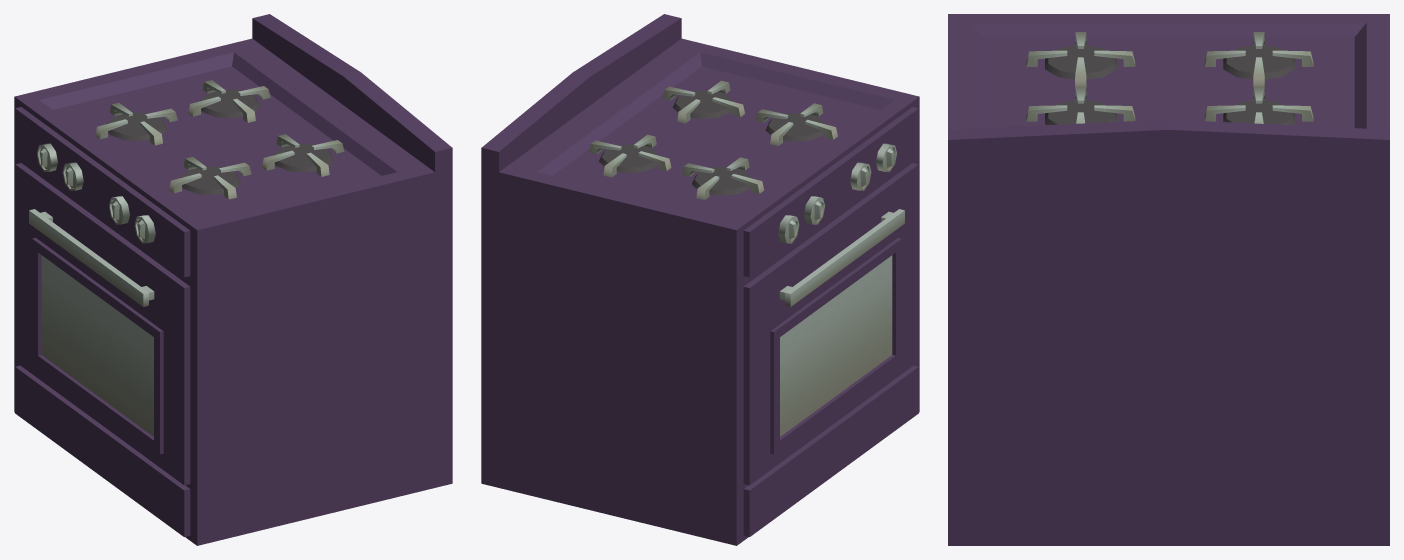
Rendered from SM_Stove_03.fbx.
3 renders of one model, left to right at view 1: azimuth 30°, elevation 25°; view 2: azimuth 150°, elevation 25°; view 3: azimuth 270°, elevation 25°, orthographic. The views are drawn at different scales.
Visible parts, largest first — view 1: SM_Stove_03; view 2: SM_Stove_03; view 3: SM_Stove_03.
Boxes of the visible parts, x1,y1,x2,y2 form: SM_Stove_03: (14, 14, 452, 545); SM_Stove_03: (481, 14, 919, 545); SM_Stove_03: (948, 14, 1389, 545).
Bounding box in the file's own units: 98.15 × 117 × 113.
